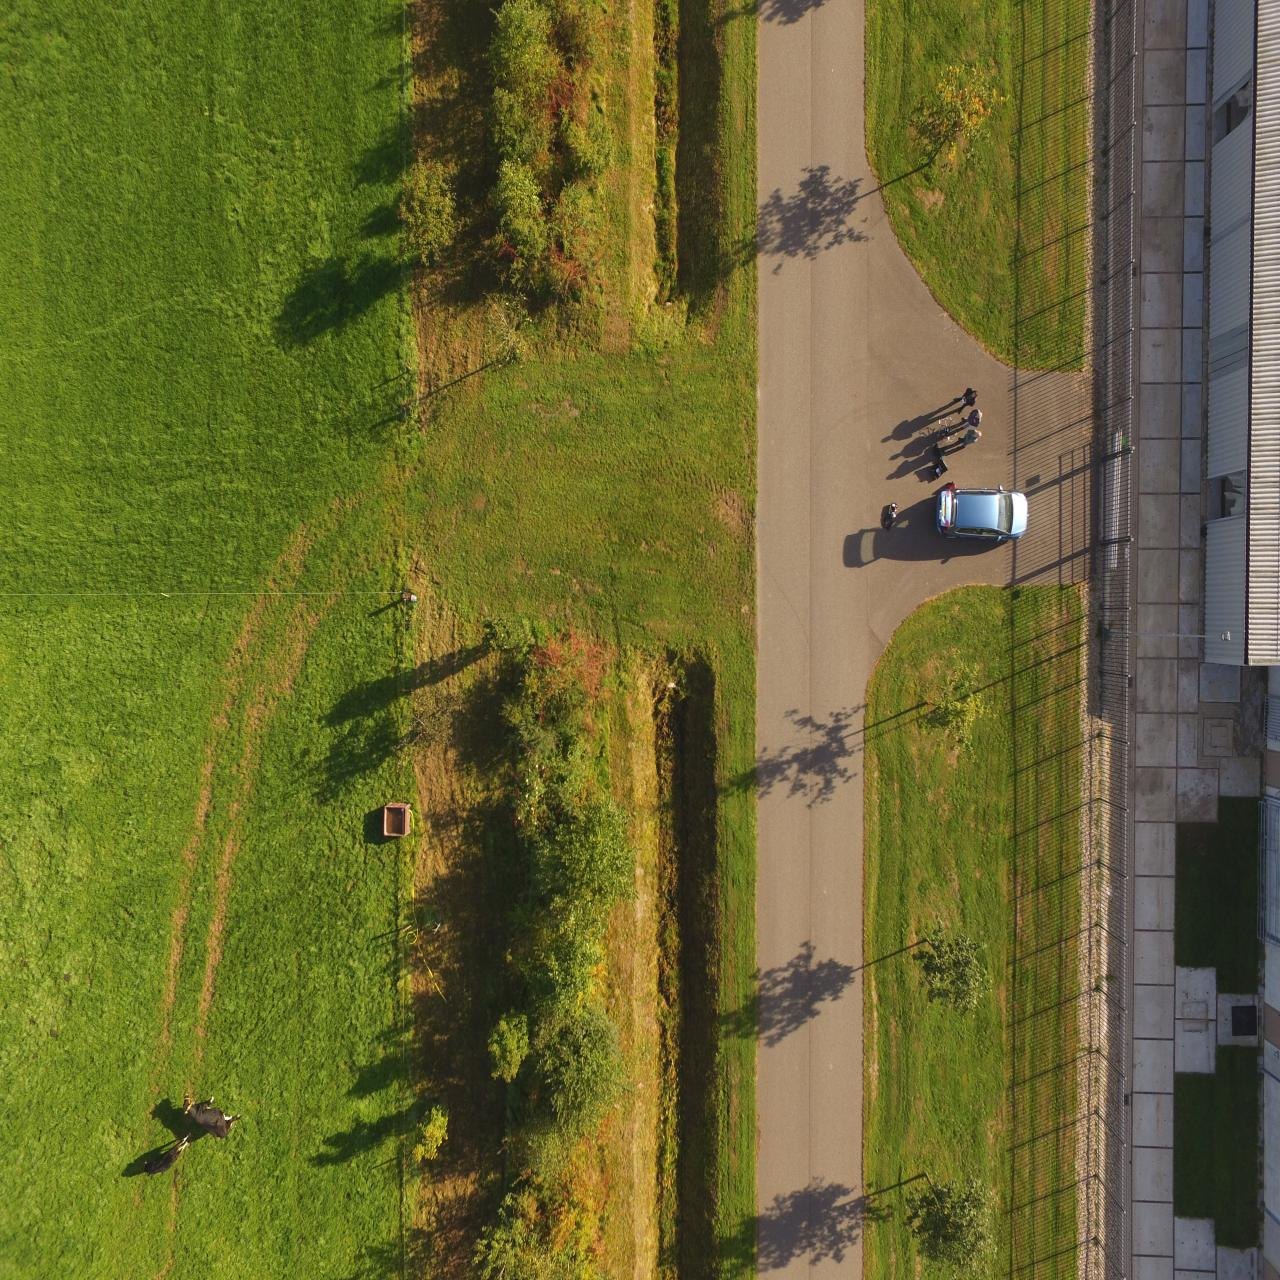cow: (179, 1088, 238, 1142), (141, 1132, 192, 1177)
